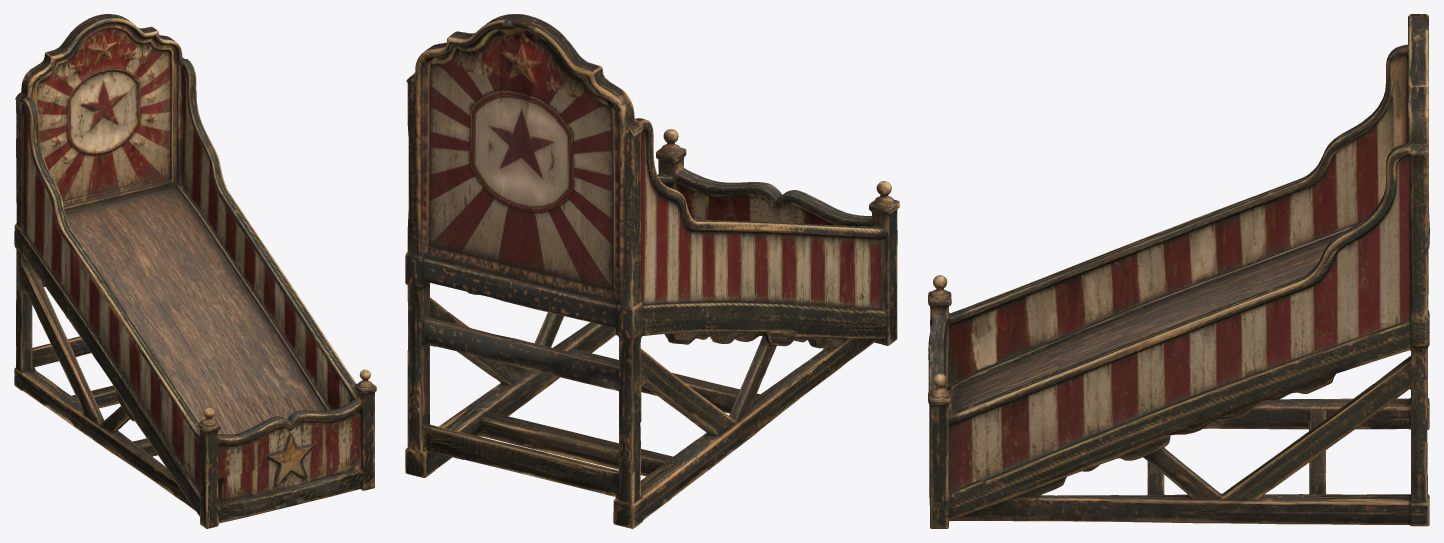
The model's file is Meshy_AI_Stars_and_Stripes_Thr_0511061751_texture.fbx.
3 views of the same model, side by side, from view 1: azimuth 30°, elevation 25°; view 2: azimuth 150°, elevation 25°; view 3: azimuth 270°, elevation 25° (orthographic). The views are drawn at different scales.
Parts seen in each view (by area): view 1: Mesh_0; view 2: Mesh_0; view 3: Mesh_0.
Part boxes in pixels (<box>): Mesh_0: <box>14,14,376,528</box>; Mesh_0: <box>405,14,899,528</box>; Mesh_0: <box>928,14,1429,528</box>.
Size of the model in its own units: 97.61 by 191 by 191.
Materials: 1 (1 with a texture image).
